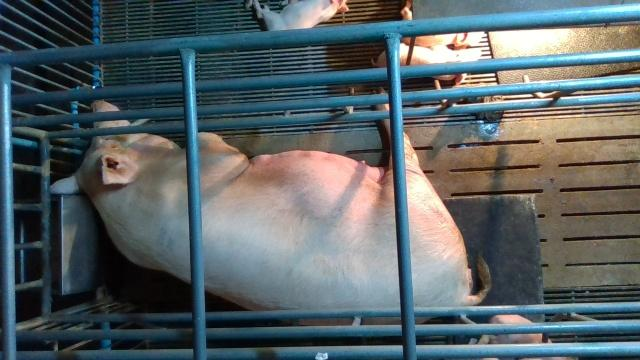piglet: (372, 42, 483, 85), (477, 315, 577, 360), (254, 0, 349, 31)
sow-sleep: (49, 99, 491, 324)
